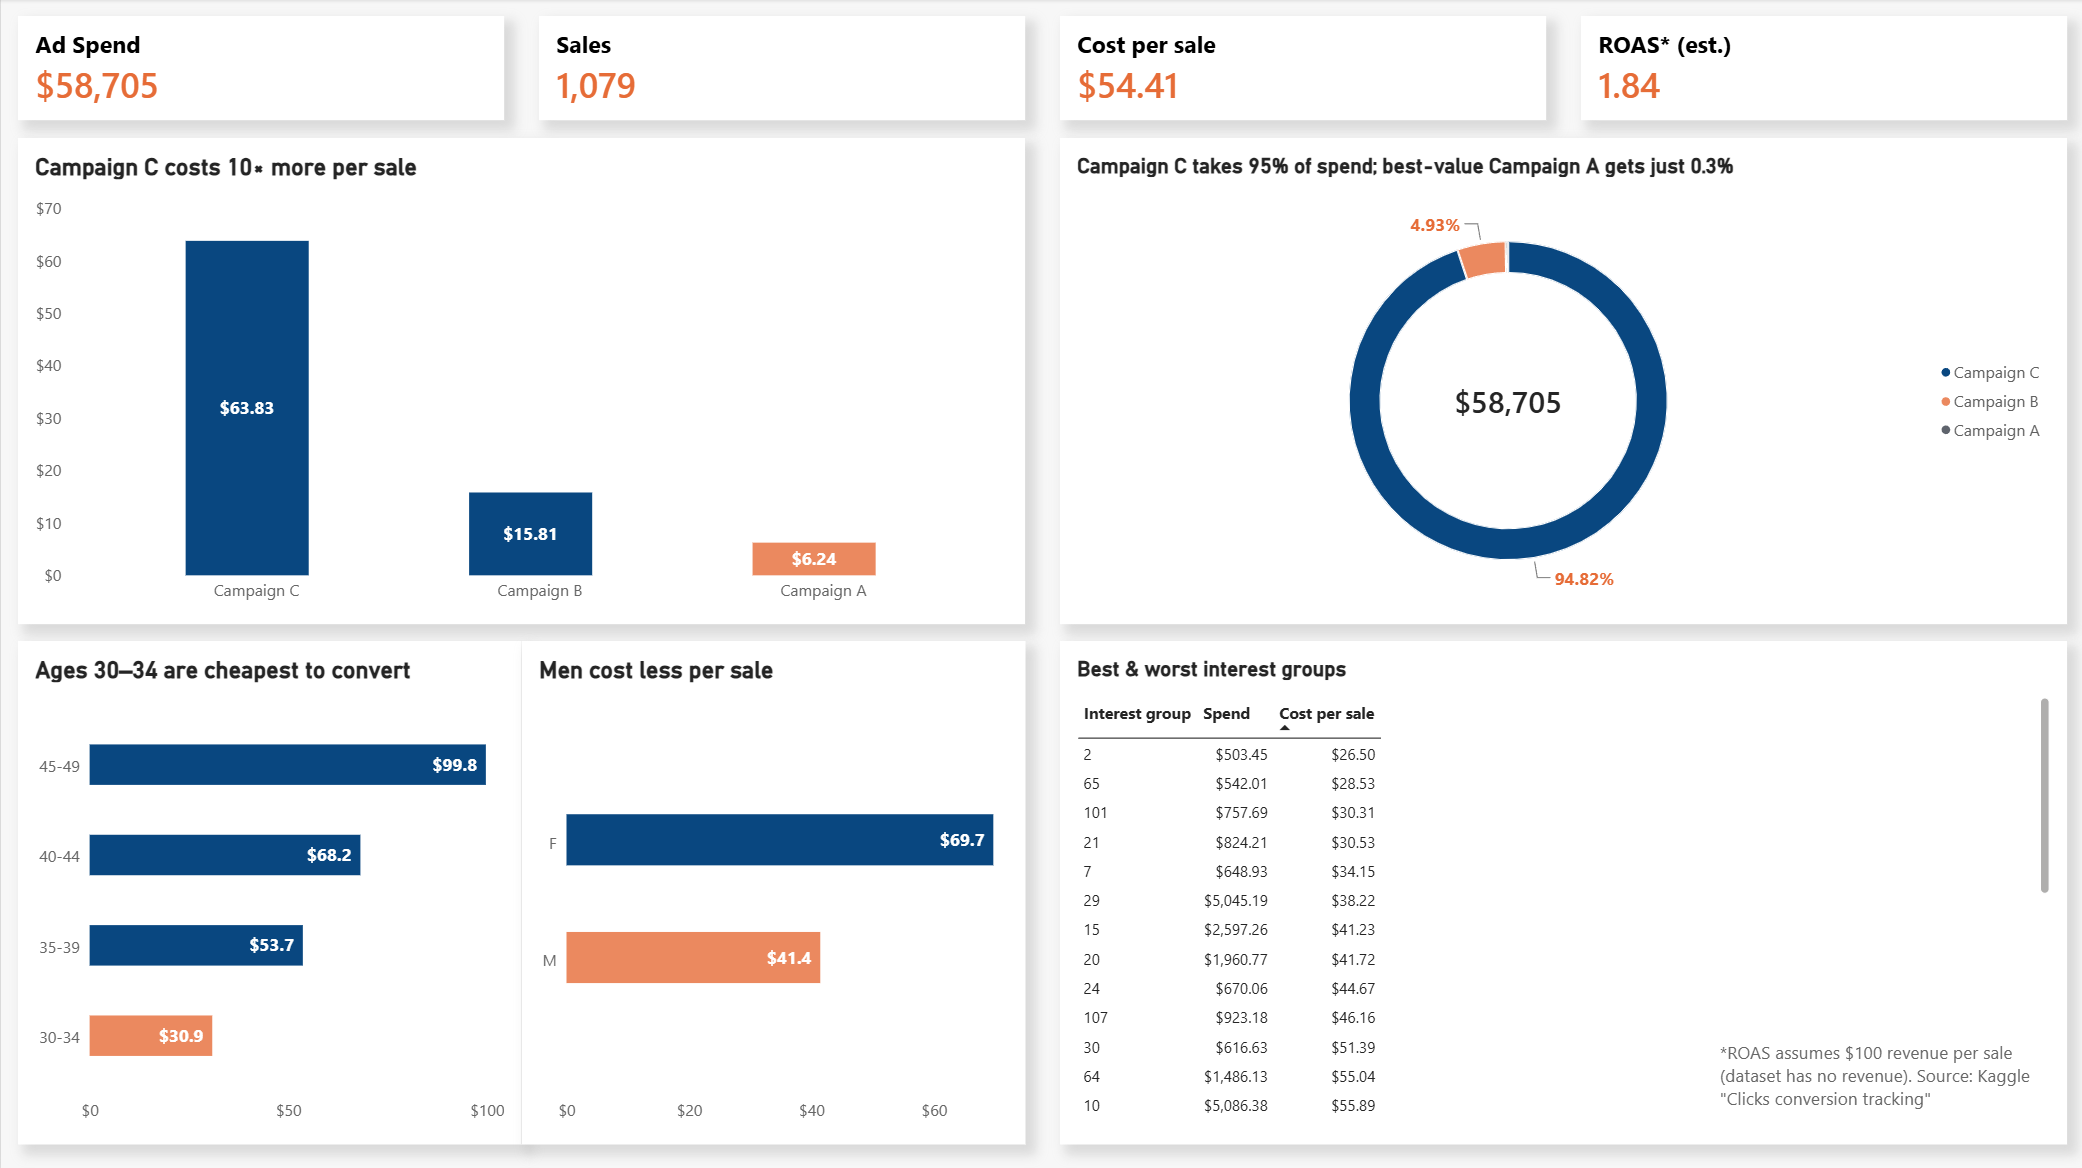

Layout of this report page (visuals, bound fields, positions):
{"tool":"powerbi","page":{"name":"Ad efficiency","canvas":[1920,1080],"ordinal":1},"visuals":[{"type":"cardVisual","fields":{"Data":["Sum(ad_metrics_by_segment.spend)"]},"box":[16,16,448,96],"z":0},{"type":"cardVisual","fields":{"Data":["Sum(ad_metrics_by_segment.approved)"]},"box":[496,16,448,96],"z":1000},{"type":"cardVisual","fields":{"Data":["ad_metrics_by_segment.Cost per sale"]},"box":[976,16,448,96],"z":2000},{"type":"cardVisual","fields":{"Data":["ad_metrics_by_segment.Assumed ROAS"]},"box":[1456,16,448,96],"z":3000},{"type":"clusteredColumnChart","title":"Campaign C costs 10× more per sale","fields":{"Category":["ad_metrics_by_segment.segment"],"Y":["ad_metrics_by_segment.Cost per sale"]},"box":[16,128,928,448],"z":4000},{"type":"clusteredBarChart","title":"Ages 30–34 are cheapest to convert","fields":{"Category":["ad_metrics_by_segment.segment"],"Y":["ad_metrics_by_segment.Cost per sale"]},"box":[16,592,464,464],"z":5000},{"type":"clusteredBarChart","title":"Men cost less per sale","fields":{"Category":["ad_metrics_by_segment.segment"],"Y":["ad_metrics_by_segment.Cost per sale"]},"box":[480,592,464,464],"z":6000},{"type":"donutChart","title":"Campaign C takes 95% of spend; best-value Campaign A gets just 0.3%","fields":{"Category":["ad_metrics_by_segment.segment"],"Y":["Sum(ad_metrics_by_segment.spend)"]},"box":[976,128,928,448],"z":7000},{"type":"tableEx","title":"Best & worst interest groups","fields":{"Values":["ad_metrics_by_segment.segment","Sum(ad_metrics_by_segment.spend)","ad_metrics_by_segment.Cost per sale"]},"box":[976,592,928,464],"z":8000},{"type":"textbox","box":[1584,960,304,80],"z":9000}]}

Visuals, with their boxes in screenshot pixels (x1, y1, x2, y2), scaled from the page's 1920x1080 canvas onto the 2082x1168 screenshot:
cardVisual - Sum(ad_metrics_by_segment.spend): left=17, top=17, right=503, bottom=121
cardVisual - Sum(ad_metrics_by_segment.approved): left=538, top=17, right=1024, bottom=121
cardVisual - ad_metrics_by_segment.Cost per sale: left=1058, top=17, right=1544, bottom=121
cardVisual - ad_metrics_by_segment.Assumed ROAS: left=1579, top=17, right=2065, bottom=121
"Campaign C costs 10× more per sale" clusteredColumnChart: left=17, top=138, right=1024, bottom=623
"Ages 30–34 are cheapest to convert" clusteredBarChart: left=17, top=640, right=520, bottom=1142
"Men cost less per sale" clusteredBarChart: left=520, top=640, right=1024, bottom=1142
"Campaign C takes 95% of spend; best-value Campaign A gets just 0.3%" donutChart: left=1058, top=138, right=2065, bottom=623
"Best & worst interest groups" tableEx: left=1058, top=640, right=2065, bottom=1142
textbox: left=1718, top=1038, right=2047, bottom=1125
